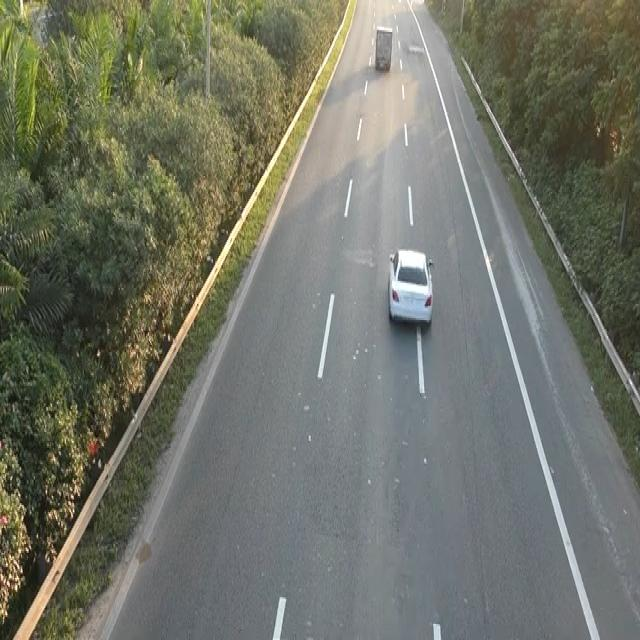bus: (385, 243, 435, 329)
minivan: (373, 23, 393, 71)
